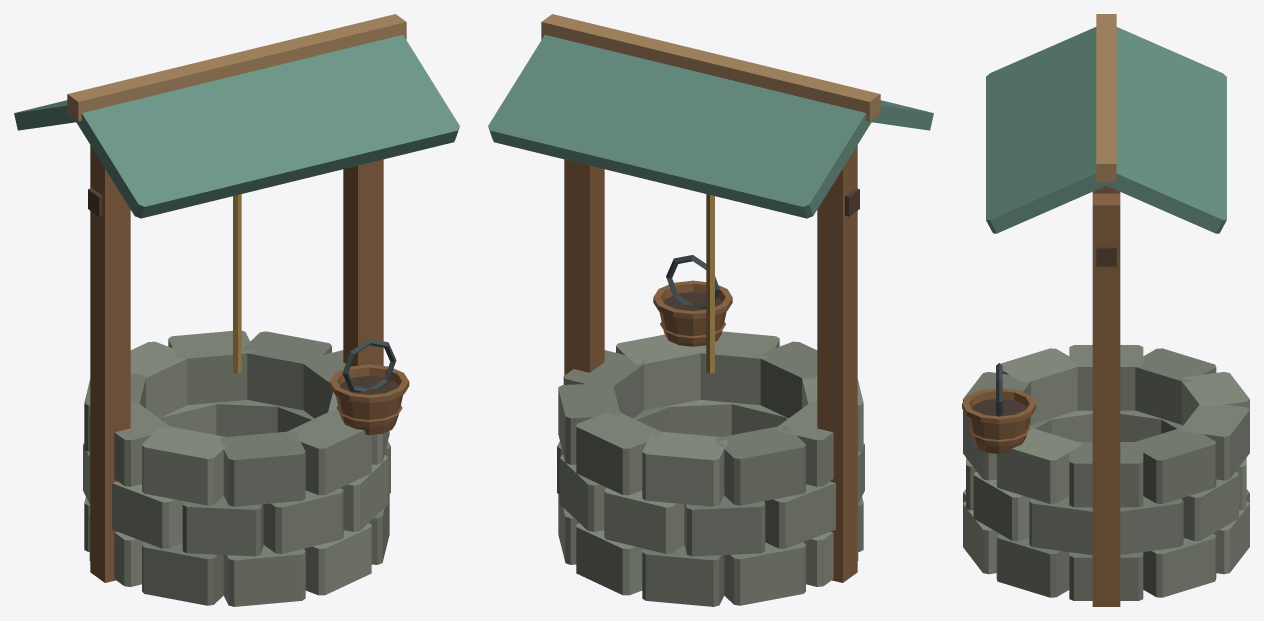
File: decor_well.glb
3 renders of one model, left to right at view 1: azimuth 30°, elevation 25°; view 2: azimuth 150°, elevation 25°; view 3: azimuth 270°, elevation 25°, orthographic. The views are drawn at different scales.
Parts seen in each view (by area): view 1: geometry; view 2: geometry; view 3: geometry.
Part boxes in pixels (left/top/right/bottom): geometry: left=14, top=14, right=459, bottom=606; geometry: left=488, top=14, right=933, bottom=606; geometry: left=962, top=14, right=1249, bottom=606.
Bounding box in the file's own units: 0.96 × 1.36 × 0.7793.
